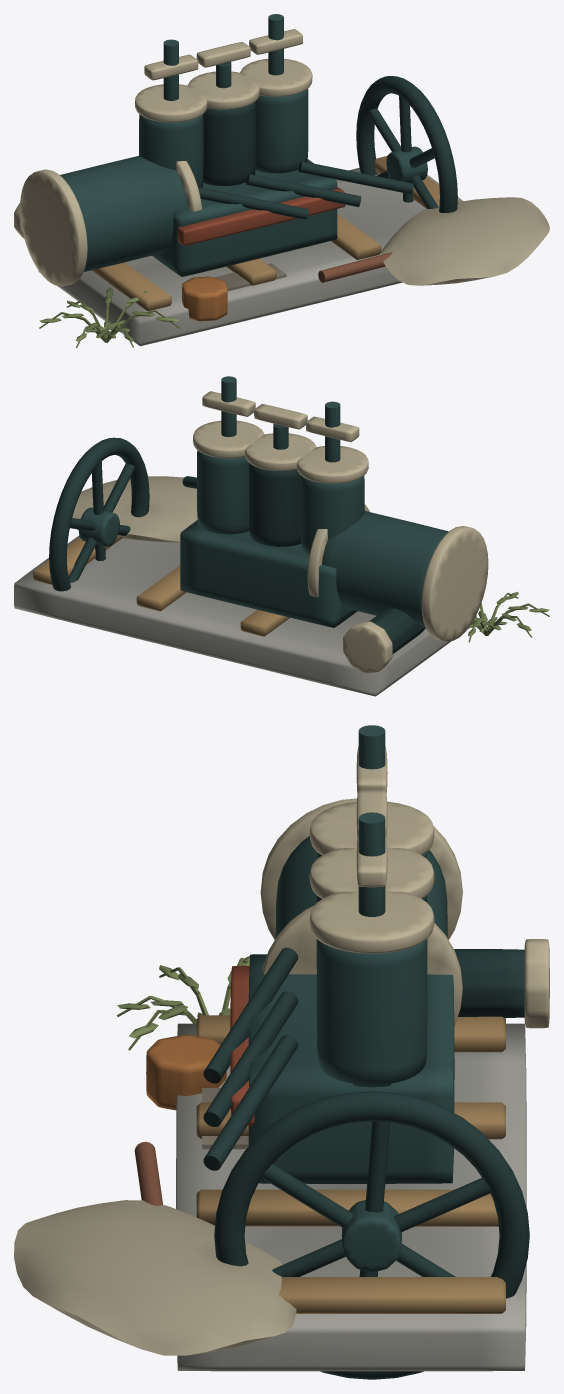
Rendered from pump_engine_b.glb.
3 renders of one model, top to bottom at view 1: azimuth 30°, elevation 25°; view 2: azimuth 150°, elevation 25°; view 3: azimuth 270°, elevation 25°, orthographic. The views are drawn at different scales.
Visible parts, largest first — view 1: Surface; view 2: Surface; view 3: Surface.
Part boxes in pixels (x1,y1,x2,y2): Surface: (14,14,549,347); Surface: (14,376,549,696); Surface: (14,725,549,1379).
Bounding box in the file's own units: 9.28 × 4.83 × 5.2.
